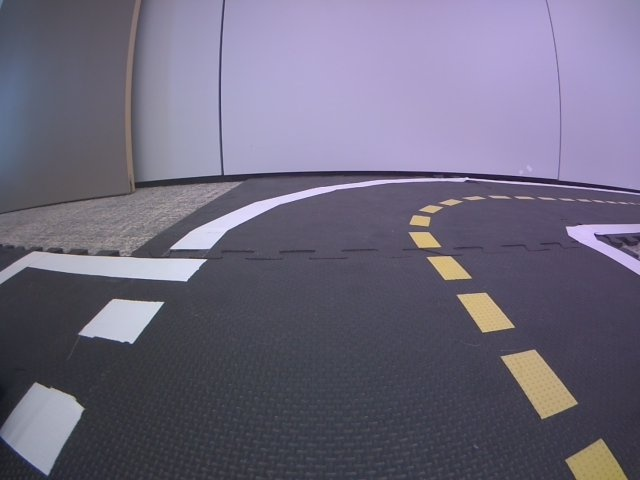freeSpot: (0, 250, 208, 480)
